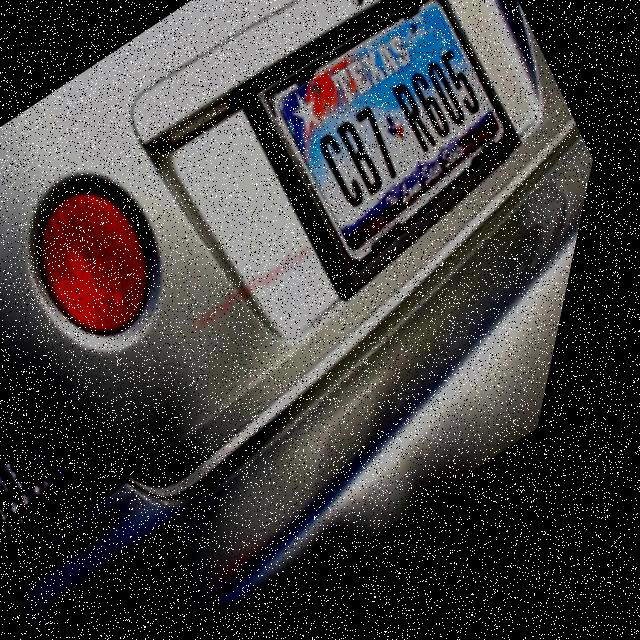license_plate: (231, 0, 565, 292)
